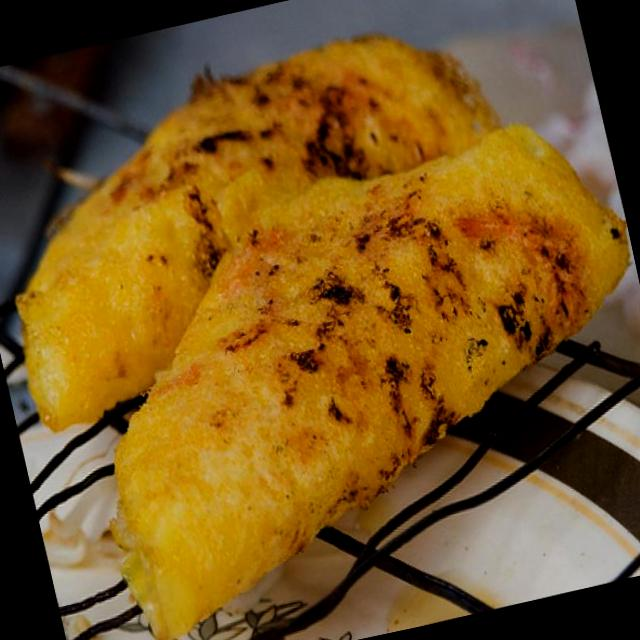Omelet: (48, 105, 640, 640)
